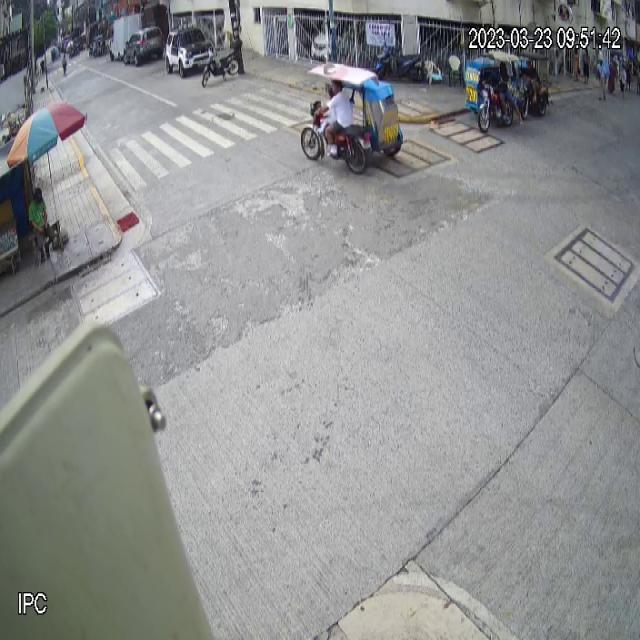Tricycle: (300, 62, 404, 175), (465, 51, 519, 134)
